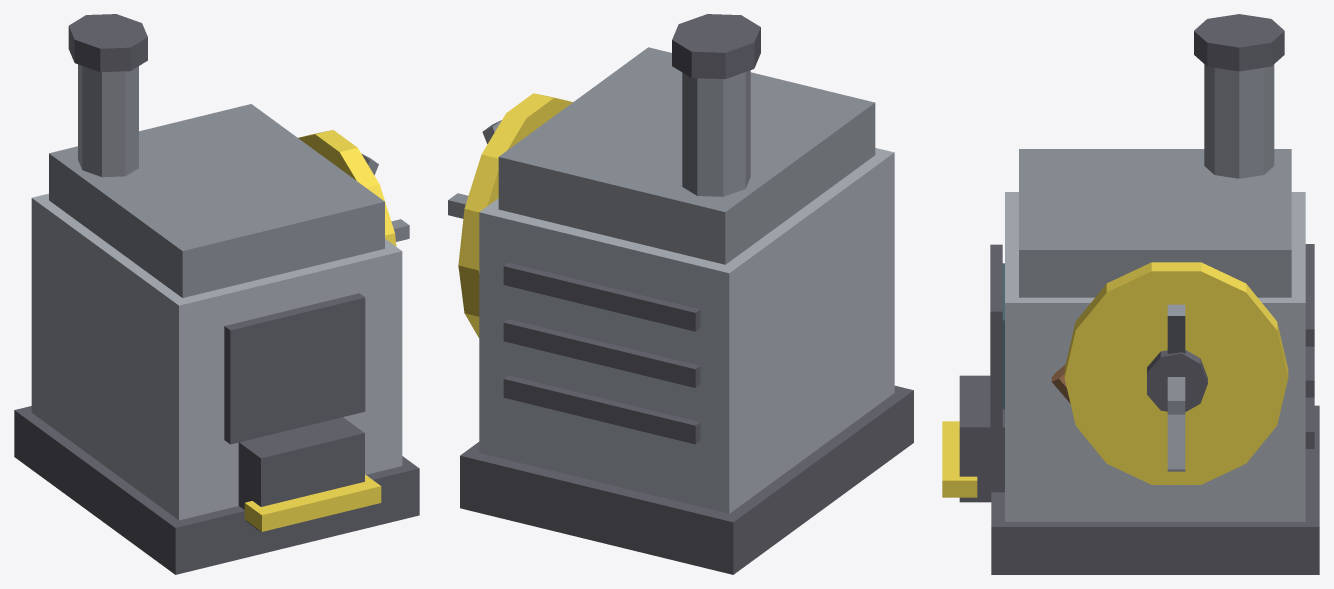
File: machine_slow.glb
3 renders of one model, left to right at view 1: azimuth 30°, elevation 25°; view 2: azimuth 150°, elevation 25°; view 3: azimuth 270°, elevation 25°, orthographic. The views are drawn at different scales.
Parts seen in each view (by area): view 1: machine_slow; view 2: machine_slow; view 3: machine_slow.
Part boxes in pixels (x1=…): machine_slow: x1=14, y1=14, x2=419, y2=574; machine_slow: x1=448, y1=14, x2=913, y2=574; machine_slow: x1=942, y1=14, x2=1319, y2=574.
Bounding box in the file's own units: 1 × 1.31 × 1.
